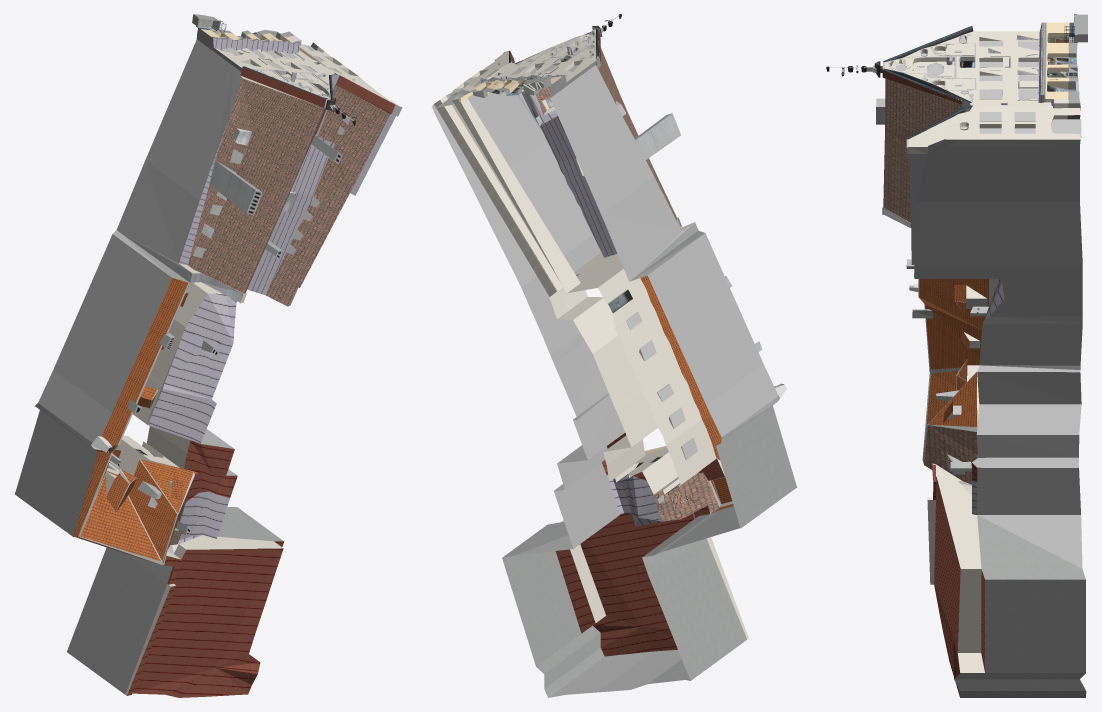
Rendered from Kuninga_1-origo.obj.
The picture shows the model from 3 angles, left to right: view 1: azimuth 30°, elevation 25°; view 2: azimuth 150°, elevation 25°; view 3: azimuth 270°, elevation 25°; orthographic projection. The views are drawn at different scales.
Parts seen in each view (by area): view 1: kuninga_1; view 2: kuninga_1; view 3: kuninga_1.
Boxes of the visible parts, x1,y1,x2,y2 form: kuninga_1: (14, 14, 402, 697); kuninga_1: (431, 14, 796, 697); kuninga_1: (826, 14, 1087, 697).
Size of the model in its own units: 39.88 by 76.5 by 26.47.
